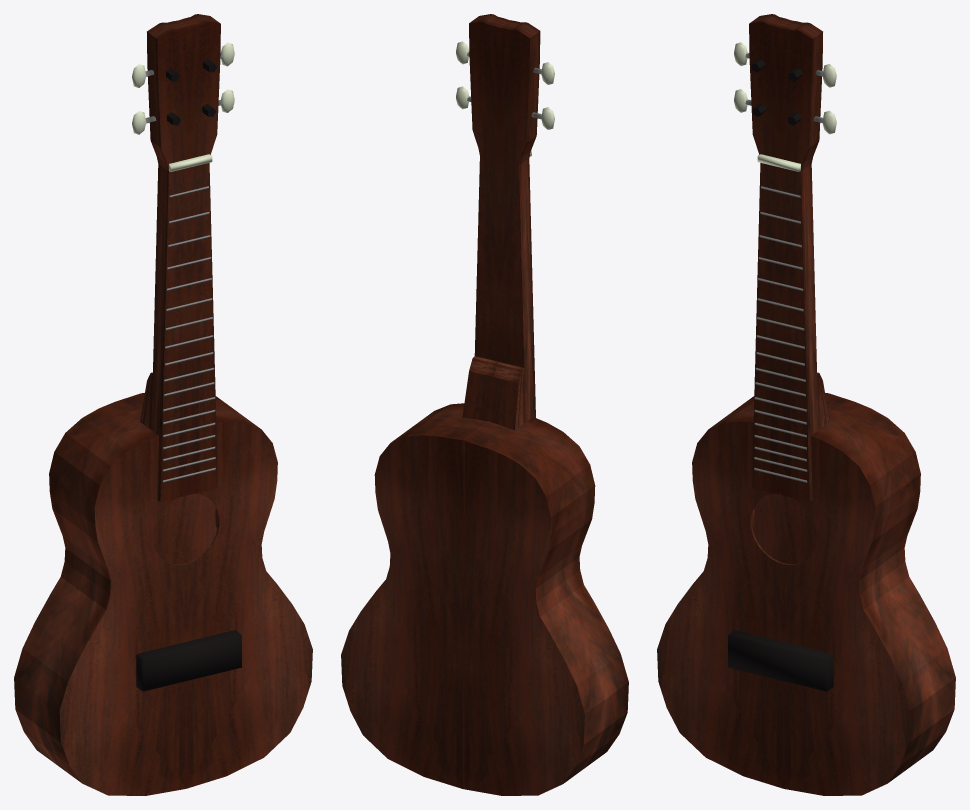
Rendered from low-poly-ukulele-easy-to-edit.fbx.
The picture shows the model from 3 angles, left to right: view 1: azimuth 30°, elevation 25°; view 2: azimuth 150°, elevation 25°; view 3: azimuth 330°, elevation 25°; orthographic projection. The views are drawn at different scales.
Visible parts, largest first — view 1: Kasa, Klavye, botp, fret, kul, tut; view 2: Kasa, Klavye, kul; view 3: Kasa, Klavye, botp, fret, kul, tut.
Boxes of the visible parts, x1=… form: Kasa: x1=14, y1=393, x2=312, y2=795; Klavye: x1=140, y1=14, x2=220, y2=501; botp: x1=136, y1=630, x2=241, y2=691; fret: x1=162, y1=186, x2=215, y2=482; kul: x1=132, y1=42, x2=234, y2=134; tut: x1=166, y1=59, x2=216, y2=125; Kasa: x1=341, y1=403, x2=628, y2=795; Klavye: x1=462, y1=14, x2=540, y2=430; kul: x1=456, y1=41, x2=554, y2=129; Kasa: x1=657, y1=393, x2=955, y2=795; Klavye: x1=749, y1=14, x2=829, y2=501; botp: x1=728, y1=630, x2=833, y2=691; fret: x1=754, y1=186, x2=807, y2=482; kul: x1=734, y1=42, x2=836, y2=134; tut: x1=751, y1=59, x2=802, y2=125.
Bounding box in the file's own units: 275 × 794 × 102.
Materials: 5 (2 with a texture image).
